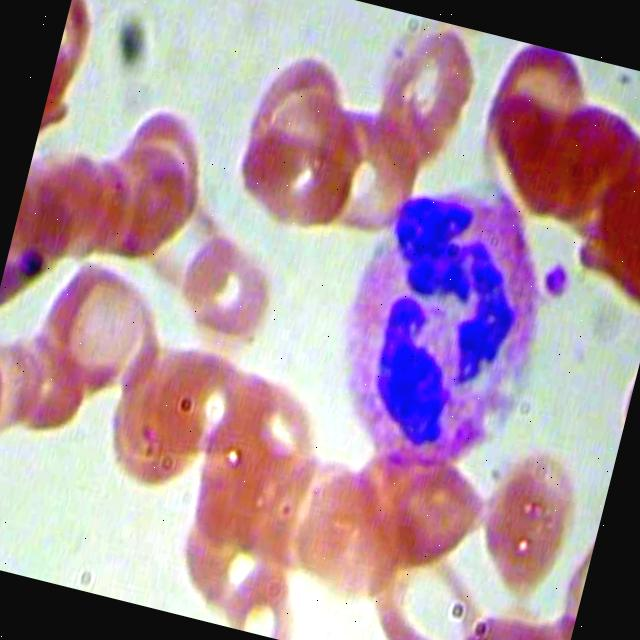Platelets: (530, 248, 580, 314)
RBC: (225, 66, 376, 235), (464, 438, 604, 613), (466, 36, 609, 204), (26, 242, 166, 398), (233, 31, 360, 192), (91, 338, 218, 497), (279, 449, 406, 608), (368, 10, 493, 170), (348, 515, 508, 640), (89, 128, 210, 280), (310, 94, 434, 238), (134, 172, 248, 297), (109, 87, 223, 212), (174, 230, 288, 354), (562, 154, 640, 313), (64, 148, 160, 268), (205, 542, 316, 640)
WBC: (304, 158, 568, 488)
